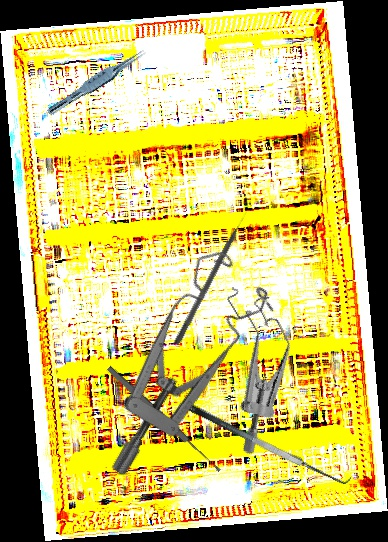Pusher: (173, 207, 252, 347)
Spatula Surgical: (180, 386, 355, 495)
Speculum: (40, 236, 307, 481), (174, 272, 331, 458)
Surgical Spoon: (105, 364, 223, 475)
Tissue Forceps: (46, 43, 148, 122)
